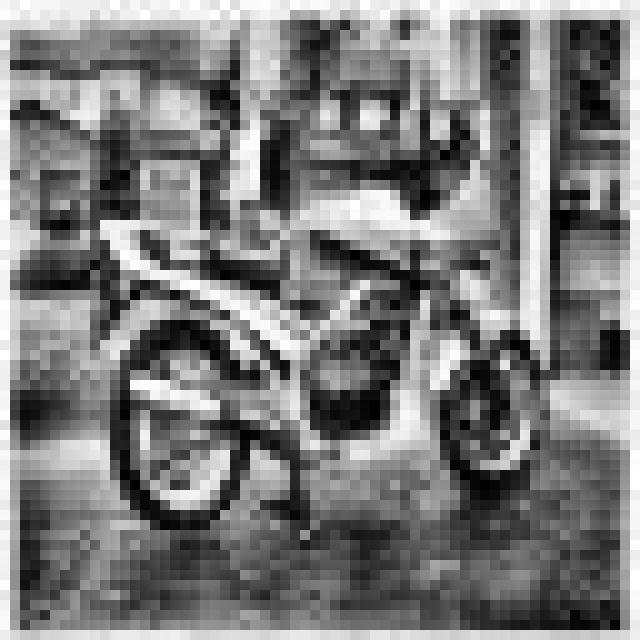mopeds: (58, 148, 578, 527)
